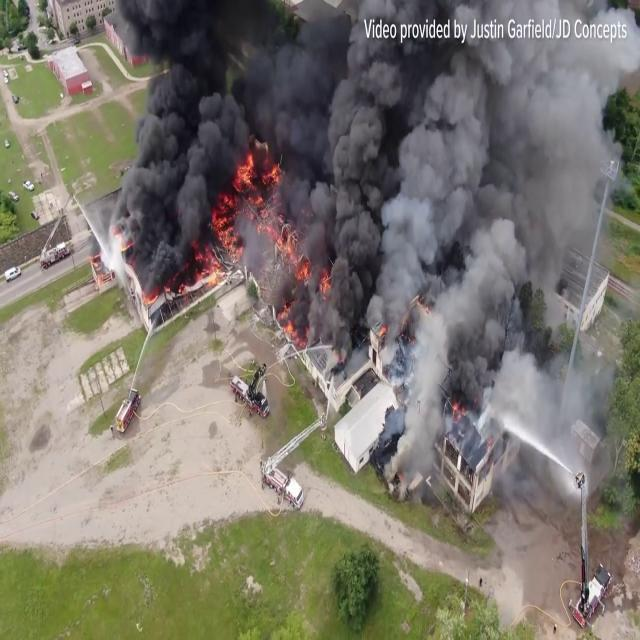Fire: (219, 131, 289, 232)
Smoke: (104, 0, 624, 303), (343, 0, 615, 487)
